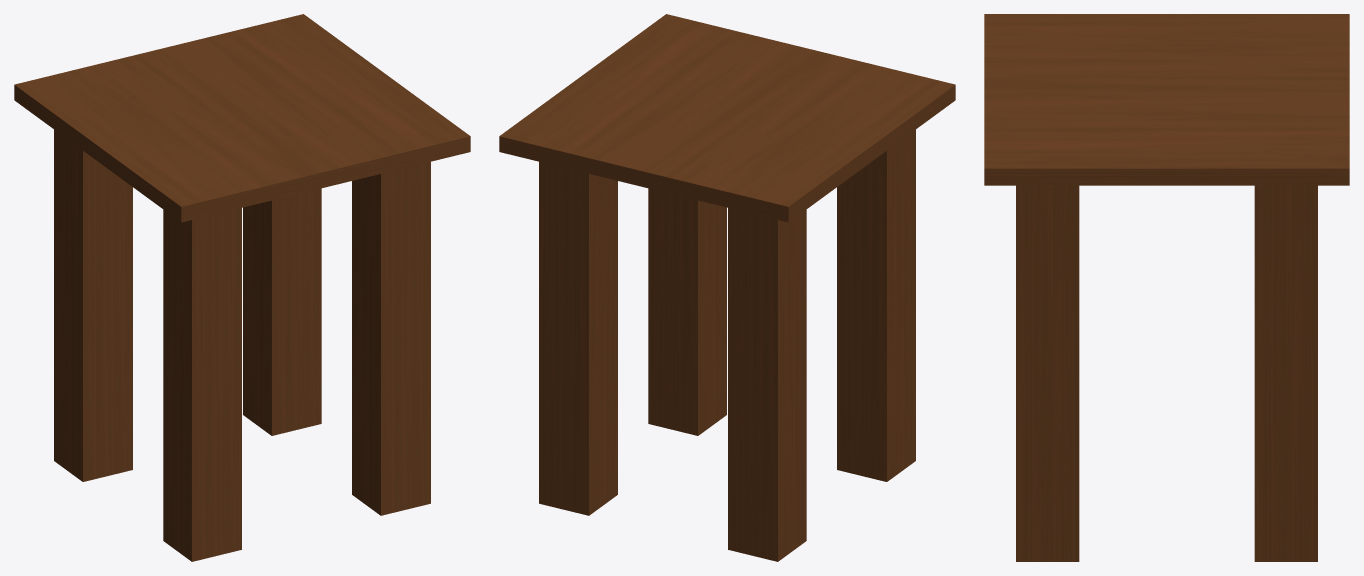
Rendered from wide_table.obj.
The picture shows the model from 3 angles, left to right: view 1: azimuth 30°, elevation 25°; view 2: azimuth 150°, elevation 25°; view 3: azimuth 270°, elevation 25°; orthographic projection. The views are drawn at different scales.
Visible parts, largest first — view 1: bigger_table; view 2: bigger_table; view 3: bigger_table.
Part boxes in pixels (left/top/right/bottom): bigger_table: left=14, top=14, right=470, bottom=561; bigger_table: left=499, top=14, right=955, bottom=561; bigger_table: left=984, top=14, right=1349, bottom=561.
Size of what is drawn, in the model's own units: 3.49 by 4.28 by 3.49.
Materials: 1 (1 with a texture image).
